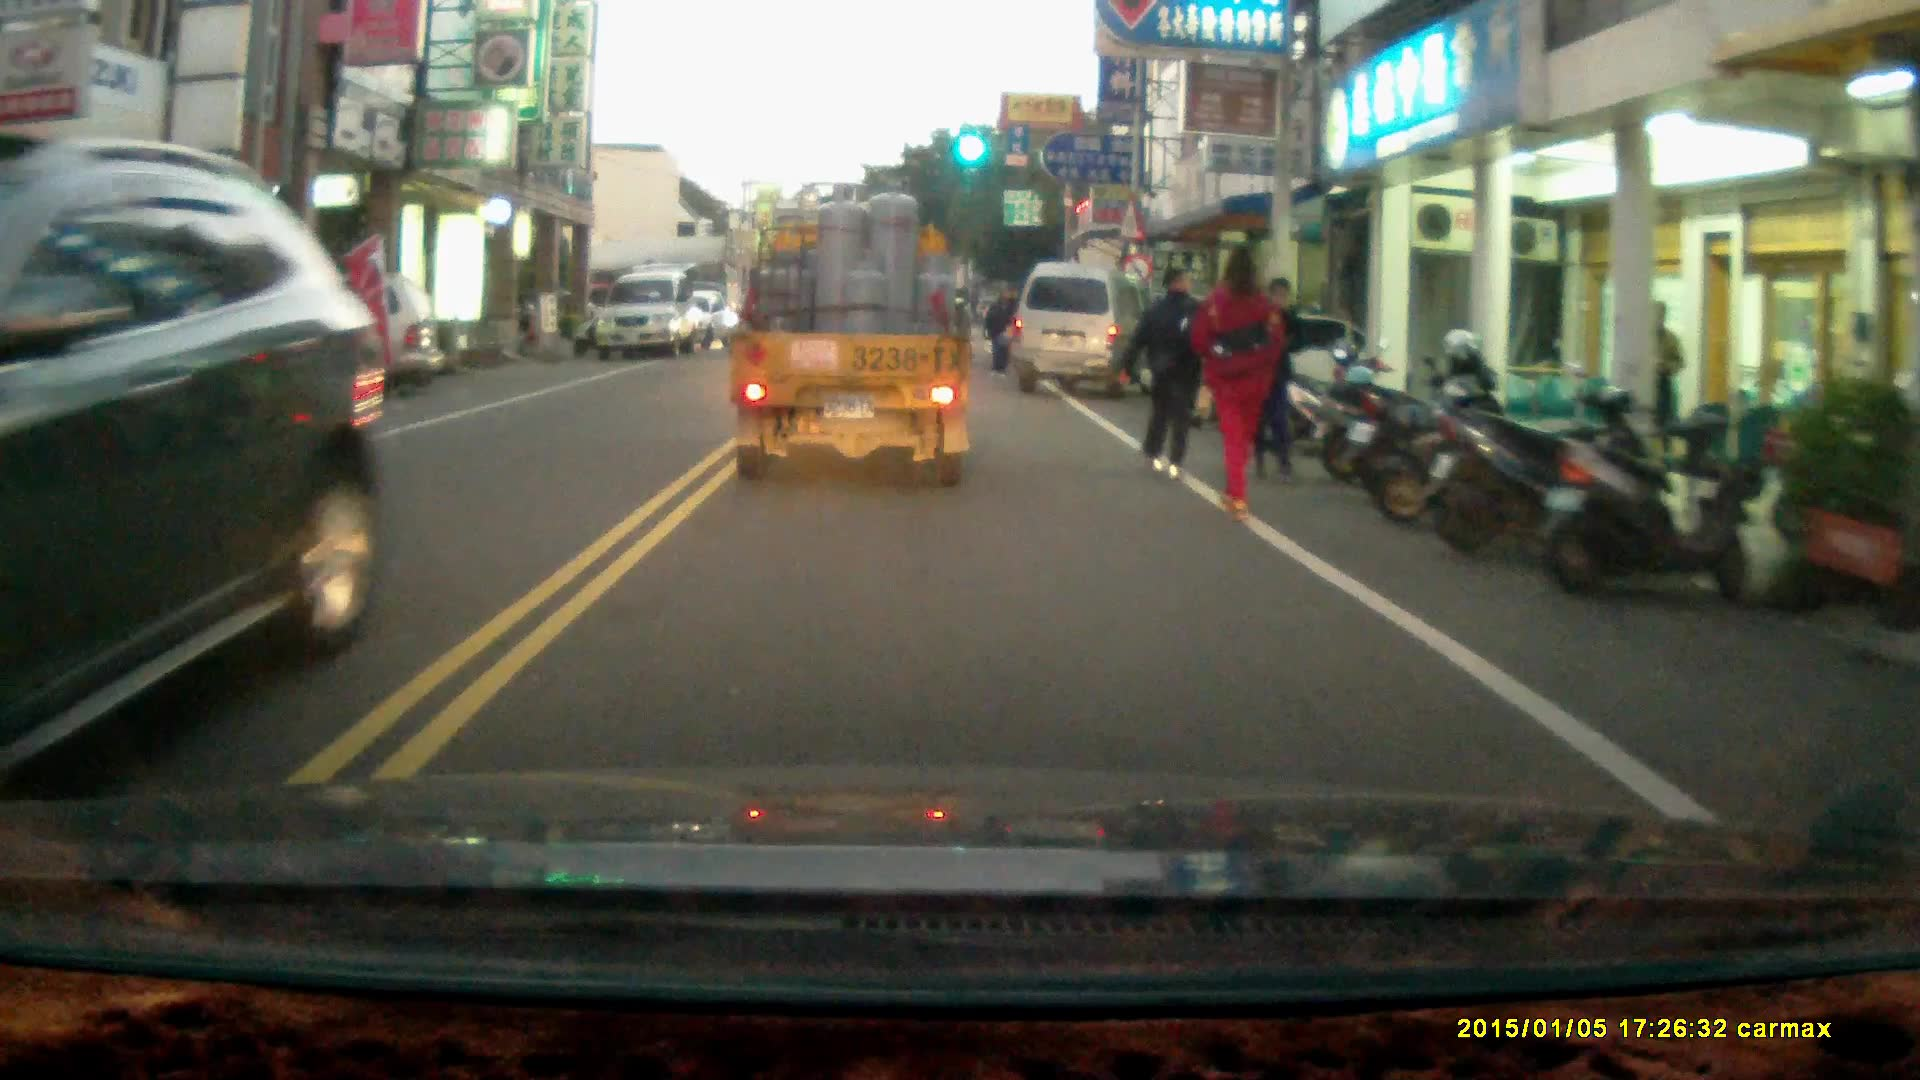pedestrian: (1194, 240, 1282, 530), (1125, 262, 1210, 479), (1248, 274, 1306, 485), (1643, 298, 1686, 457), (984, 288, 1018, 378)
vehicle: (1, 125, 393, 792), (721, 186, 980, 504), (158, 290, 438, 414), (1015, 260, 1153, 399), (597, 270, 709, 358)
